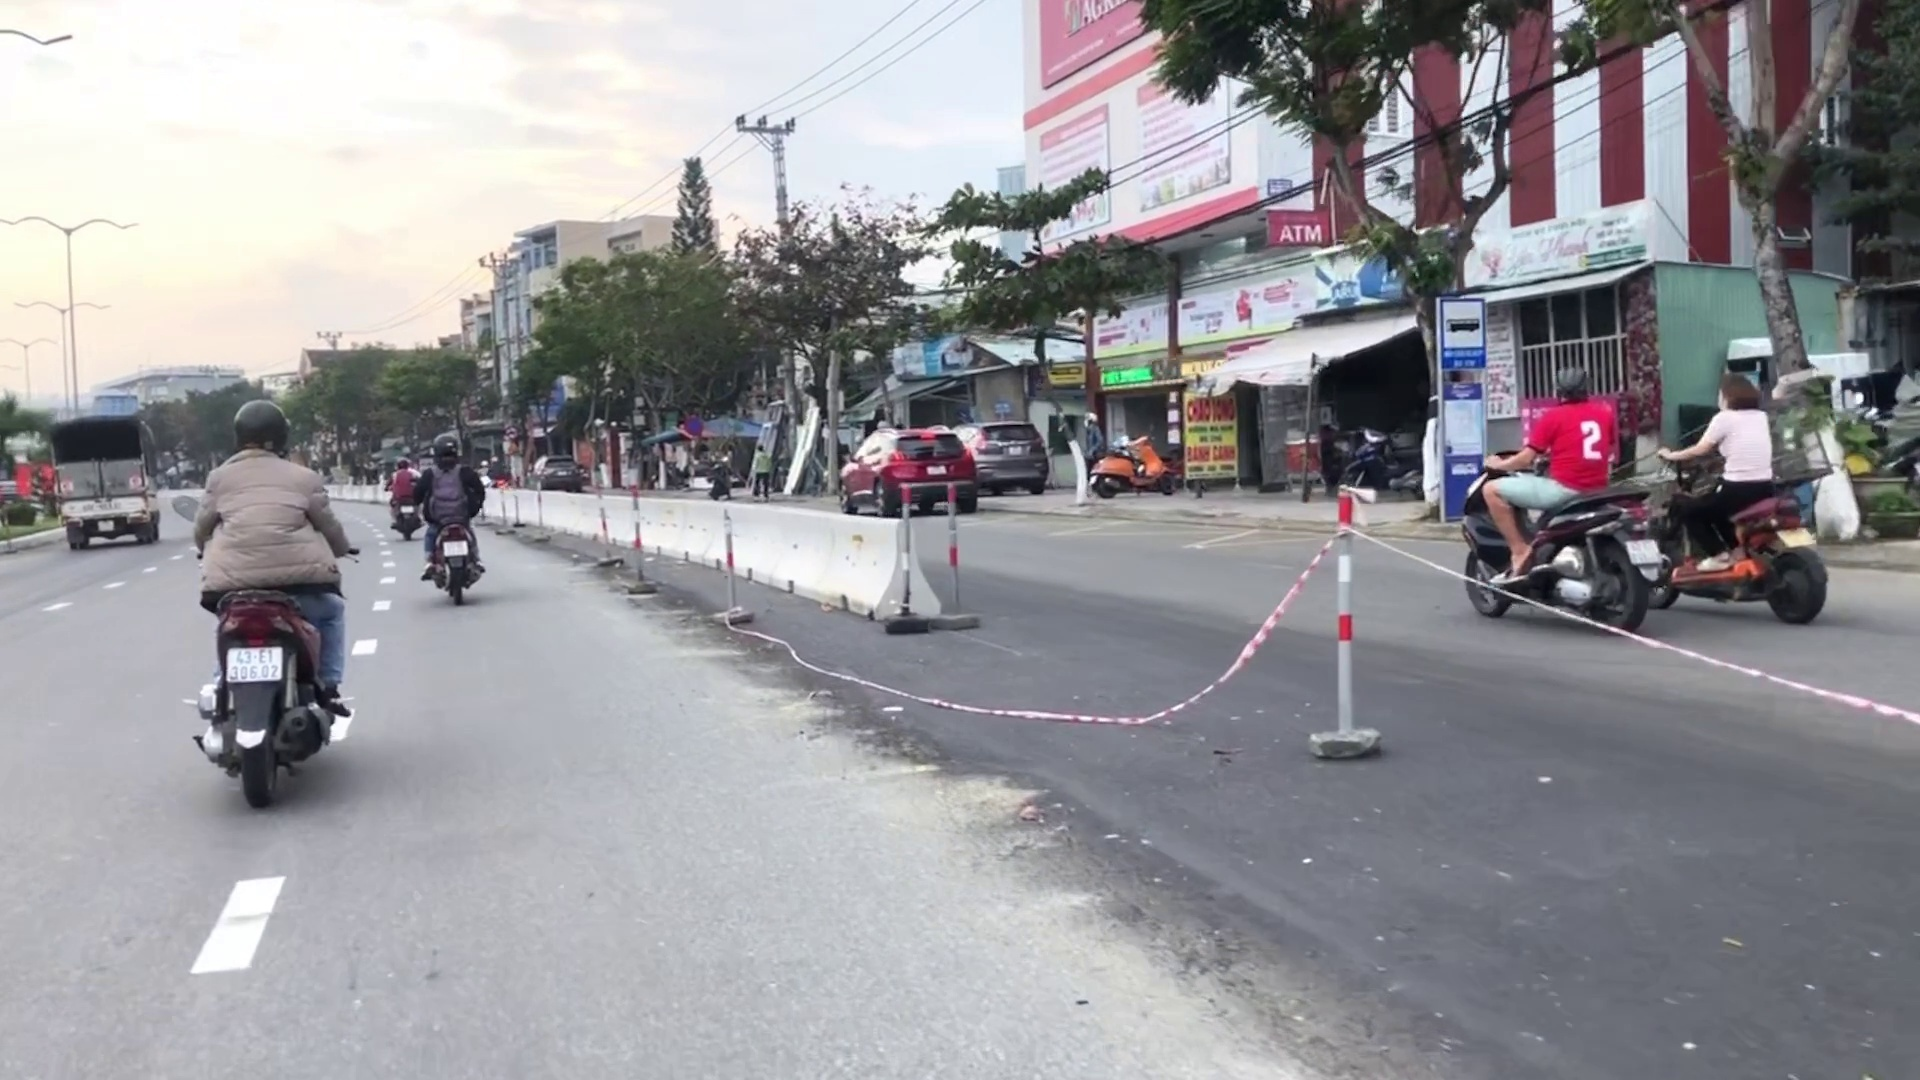Bien khac: (1439, 293, 1487, 373)
Cam do xe: (679, 411, 707, 438)
